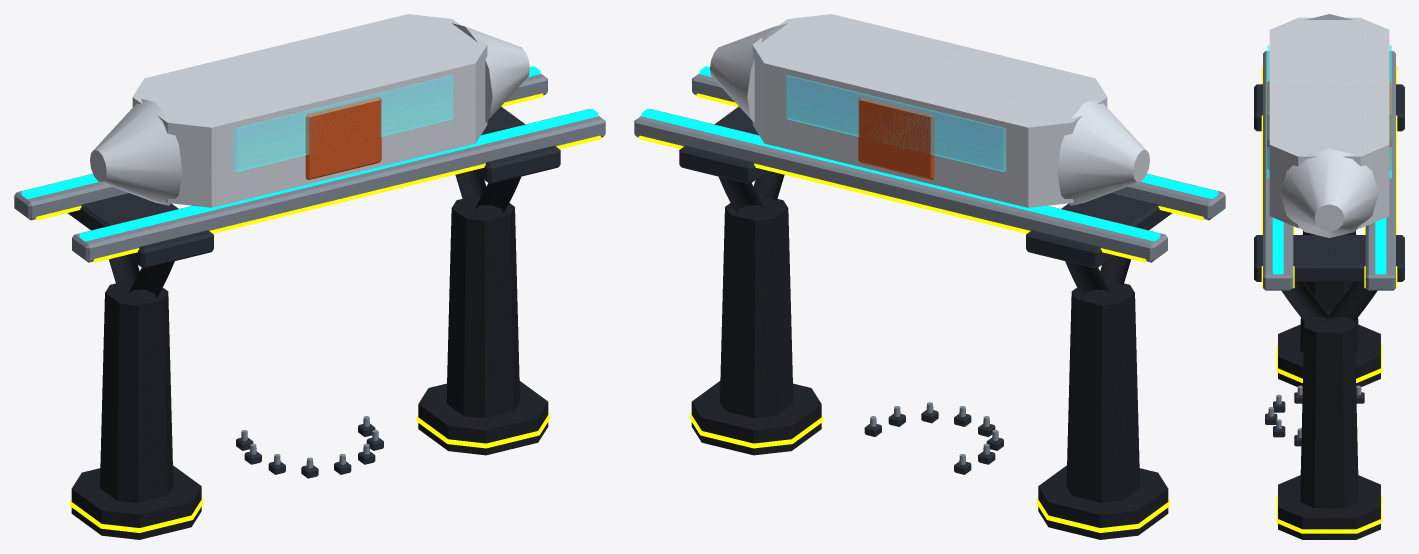
The model's file is prop_set_01_maglev_guideway_pod.glb.
3 views of the same model, side by side, from view 1: azimuth 30°, elevation 25°; view 2: azimuth 150°, elevation 25°; view 3: azimuth 270°, elevation 25° (orthographic). The views are drawn at different scales.
Parts seen in each view (by area): view 1: Prop01_aero_white, Prop01_gunmetal, Prop01_steel_machined, Prop01_carbon_slate, Prop01_glass_cyan, Prop01_accent_orange, Prop01_led_cyan, Prop01_led_amber; view 2: Prop01_aero_white, Prop01_gunmetal, Prop01_steel_machined, Prop01_carbon_slate, Prop01_glass_cyan, Prop01_accent_orange, Prop01_led_cyan, Prop01_led_amber; view 3: Prop01_aero_white, Prop01_gunmetal, Prop01_carbon_slate, Prop01_steel_machined, Prop01_led_amber, Prop01_led_cyan, Prop01_glass_cyan, Prop01_accent_orange.
Boxes of the visible parts, left/top/right/bottom form: Prop01_aero_white: left=90, top=14, right=529, bottom=207; Prop01_gunmetal: left=71, top=171, right=548, bottom=539; Prop01_steel_machined: left=14, top=66, right=605, bottom=468; Prop01_carbon_slate: left=67, top=106, right=560, bottom=478; Prop01_glass_cyan: left=234, top=75, right=453, bottom=171; Prop01_accent_orange: left=305, top=97, right=381, bottom=179; Prop01_led_cyan: left=21, top=66, right=598, bottom=241; Prop01_led_amber: left=35, top=93, right=600, bottom=532; Prop01_aero_white: left=710, top=14, right=1149, bottom=207; Prop01_gunmetal: left=691, top=171, right=1168, bottom=539; Prop01_steel_machined: left=634, top=66, right=1225, bottom=464; Prop01_carbon_slate: left=679, top=106, right=1172, bottom=474; Prop01_glass_cyan: left=786, top=75, right=1005, bottom=171; Prop01_accent_orange: left=858, top=97, right=934, bottom=179; Prop01_led_cyan: left=641, top=66, right=1218, bottom=241; Prop01_led_amber: left=639, top=93, right=1204, bottom=532; Prop01_aero_white: left=1269, top=14, right=1389, bottom=237; Prop01_gunmetal: left=1278, top=231, right=1380, bottom=539; Prop01_carbon_slate: left=1254, top=84, right=1404, bottom=446; Prop01_steel_machined: left=1263, top=51, right=1395, bottom=438; Prop01_led_amber: left=1261, top=65, right=1397, bottom=533; Prop01_led_cyan: left=1272, top=217, right=1386, bottom=274; Prop01_glass_cyan: left=1267, top=45, right=1391, bottom=178; Prop01_accent_orange: left=1267, top=80, right=1391, bottom=169.
Bounding box in the file's own units: 7.8 × 5.82 × 2.2.
Materials: 8 (8 with a texture image).
